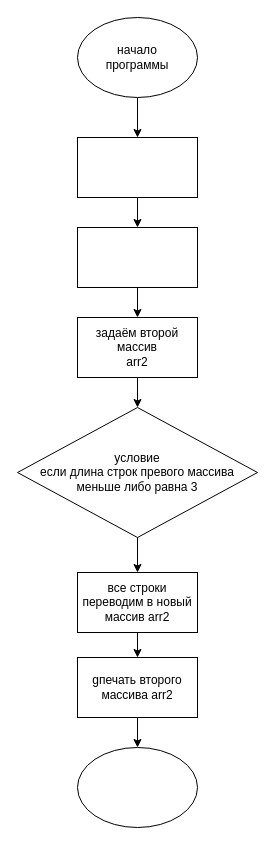
The diagram is 275 pixels wide and 845 high, and some of its shapes have lost their labels. The centre of each missing label's shape, as x and y in pixels:
gпользователь вводит строки через пробел: the point at 137,167
задаём первый массив arr: the point at 137,257
конец программы: the point at 137,787
